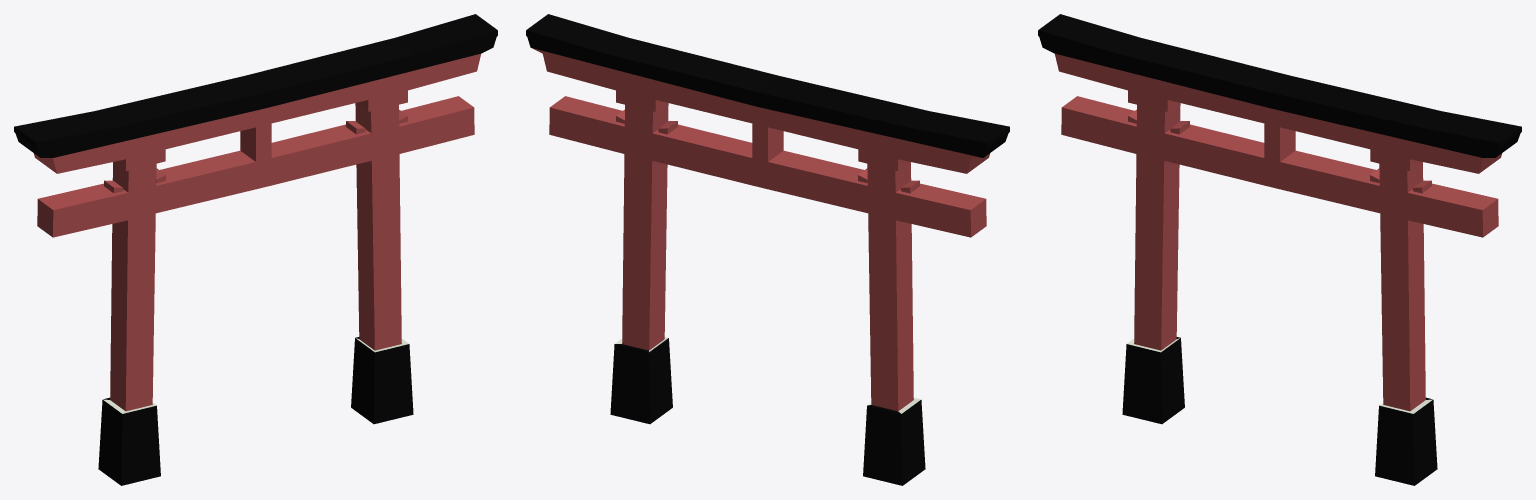
File: Torii.fbx
3 renders of one model, left to right at view 1: azimuth 30°, elevation 25°; view 2: azimuth 150°, elevation 25°; view 3: azimuth 330°, elevation 25°, orthographic.
Parts seen in each view (by area): view 1: Torii; view 2: Torii; view 3: Torii.
Boxes of the visible parts, <box> form: Torii: <box>14,14,497,485</box>; Torii: <box>526,14,1009,485</box>; Torii: <box>1038,14,1521,485</box>.
Size of the model in its own units: 786 by 591 by 67.48.
